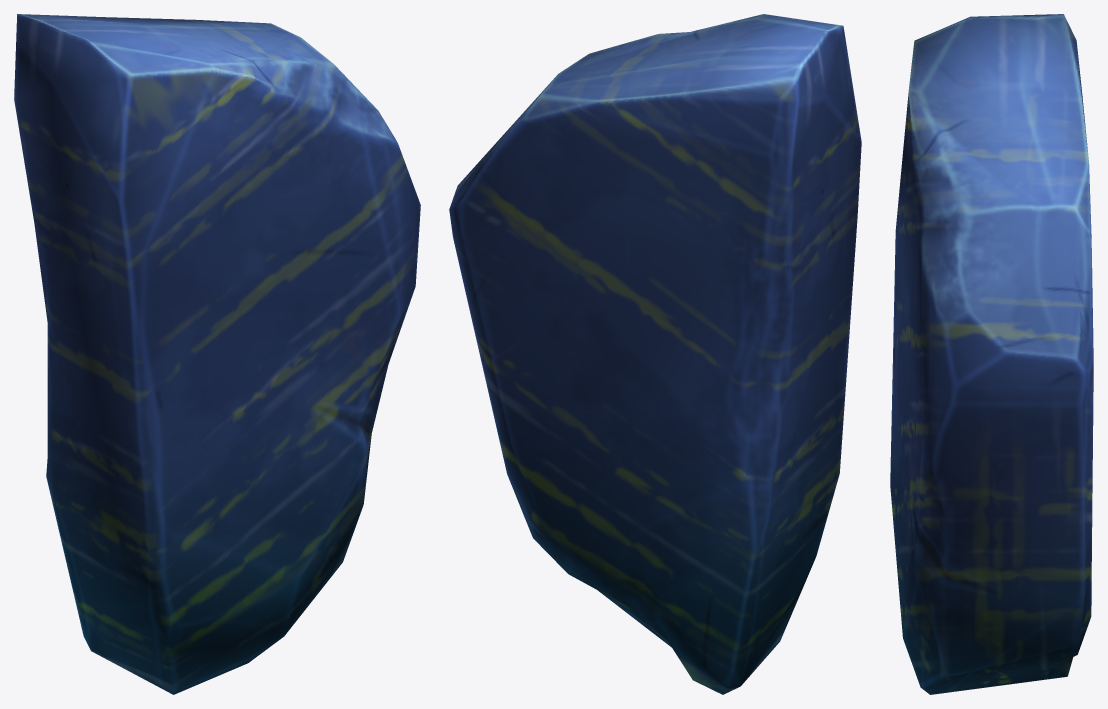
The model's file is SM_Gem_LapisLazuli_001.fbx.
The picture shows the model from 3 angles, left to right: view 1: azimuth 30°, elevation 25°; view 2: azimuth 150°, elevation 25°; view 3: azimuth 270°, elevation 25°; orthographic projection. The views are drawn at different scales.
Parts seen in each view (by area): view 1: SM_Gem_LapisLazuli_001; view 2: SM_Gem_LapisLazuli_001; view 3: SM_Gem_LapisLazuli_001.
Boxes of the visible parts, <box> form: SM_Gem_LapisLazuli_001: <box>14,14,420,694</box>; SM_Gem_LapisLazuli_001: <box>449,14,861,694</box>; SM_Gem_LapisLazuli_001: <box>890,14,1093,694</box>.
Bounding box in the file's own units: 34.66 × 63.35 × 18.51.
